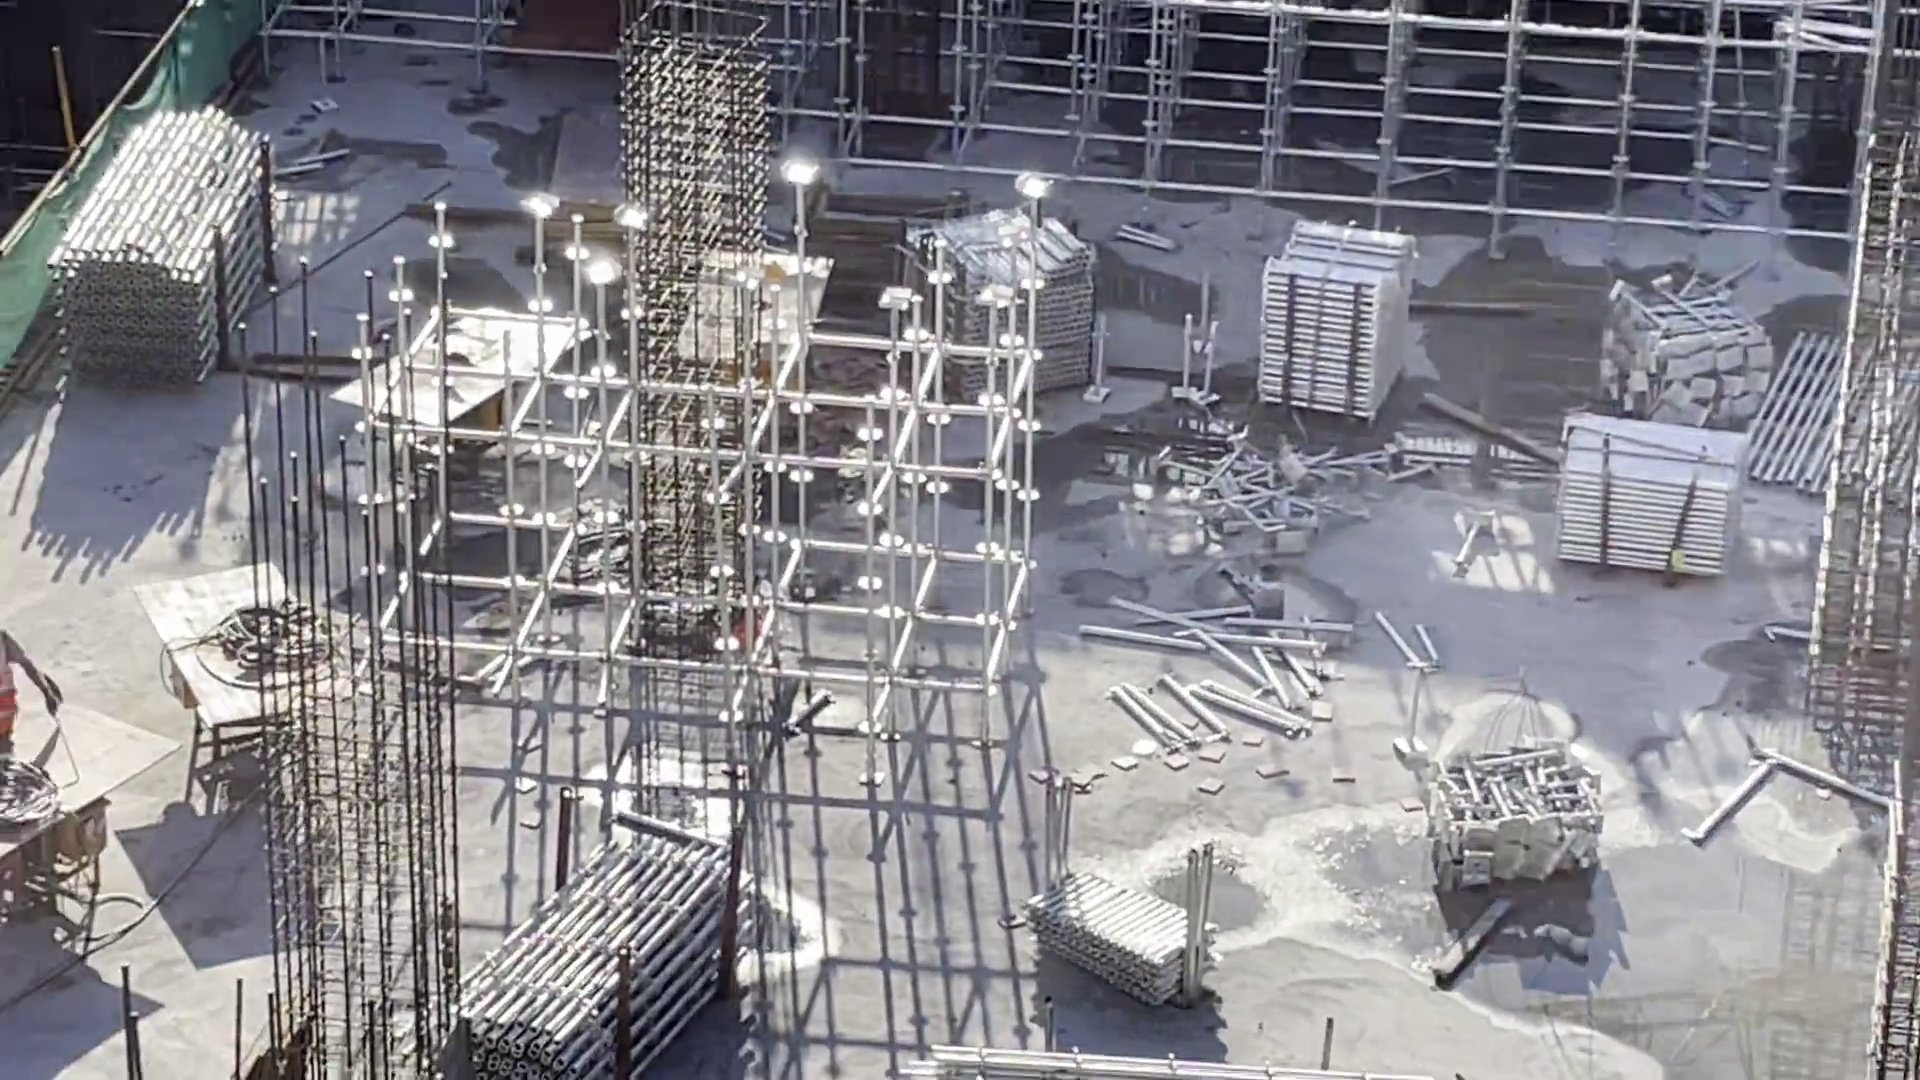cutter: (133, 541, 406, 808), (1, 684, 191, 947), (371, 291, 585, 501), (675, 206, 818, 425)
scaffold: (38, 73, 273, 380), (476, 808, 719, 1062), (1556, 411, 1749, 595), (928, 212, 1106, 394), (1253, 216, 1400, 430), (1400, 749, 1607, 899), (1596, 272, 1760, 440), (1029, 862, 1215, 1005), (1180, 435, 1320, 566)
